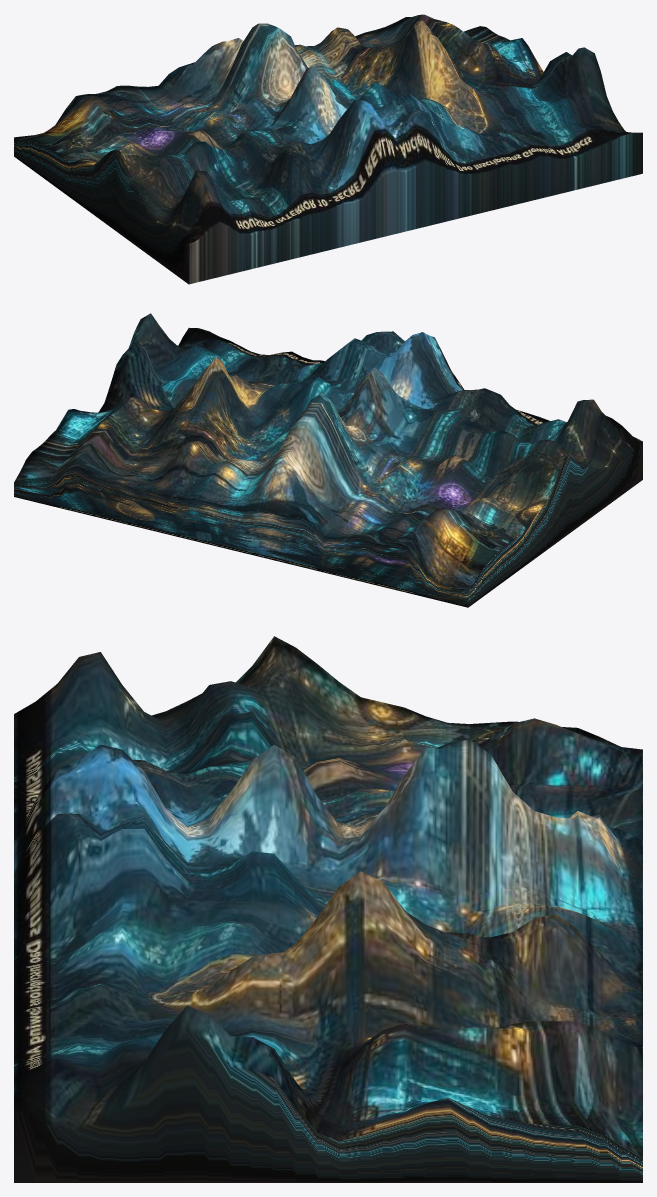
The model's file is INTERIOR_10_Secret_Realm.glb.
The picture shows the model from 3 angles, top to bottom: view 1: azimuth 30°, elevation 25°; view 2: azimuth 150°, elevation 25°; view 3: azimuth 270°, elevation 25°; orthographic projection. The views are drawn at different scales.
Parts seen in each view (by area): view 1: INTERIOR_10_Secret_Realm; view 2: INTERIOR_10_Secret_Realm; view 3: INTERIOR_10_Secret_Realm.
Boxes of the visible parts, x1=… form: INTERIOR_10_Secret_Realm: x1=14, y1=14, x2=642, y2=284; INTERIOR_10_Secret_Realm: x1=14, y1=313, x2=642, y2=607; INTERIOR_10_Secret_Realm: x1=14, y1=636, x2=642, y2=1182.
Size of the model in its own units: 2 by 0.51 by 1.33.
Materials: 1 (1 with a texture image).
